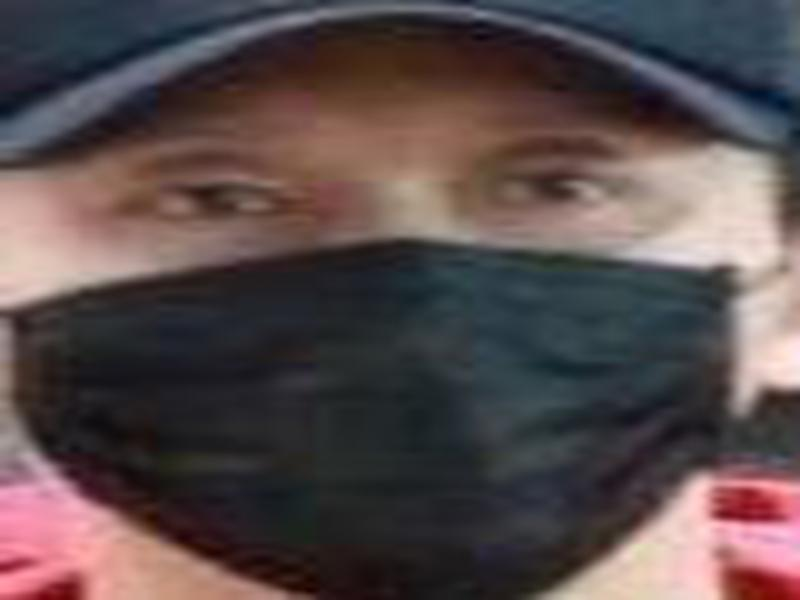with_mask: (1, 28, 787, 600)
